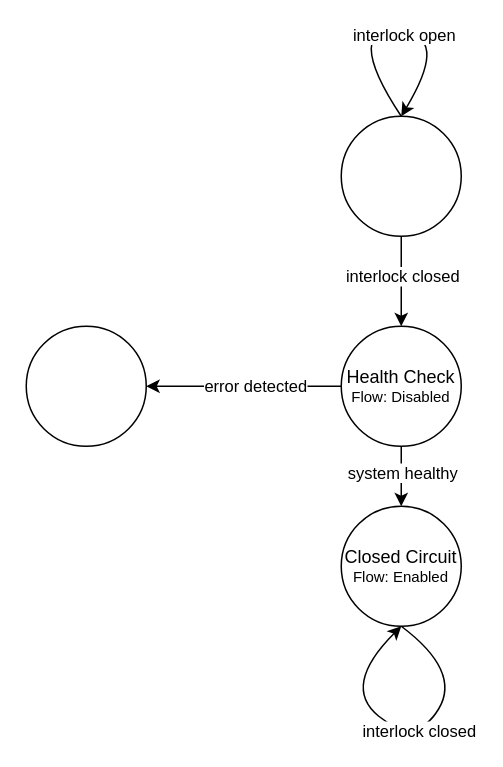
Some shapes in this 503 by 767 pixel diagram are drawn without their labels. Each missing label, with the centre of its shape:
"Emergency Open Flow: Disabled" goes at (85,385).
"Open Circuit Flow: Disabled" goes at (400,175).
